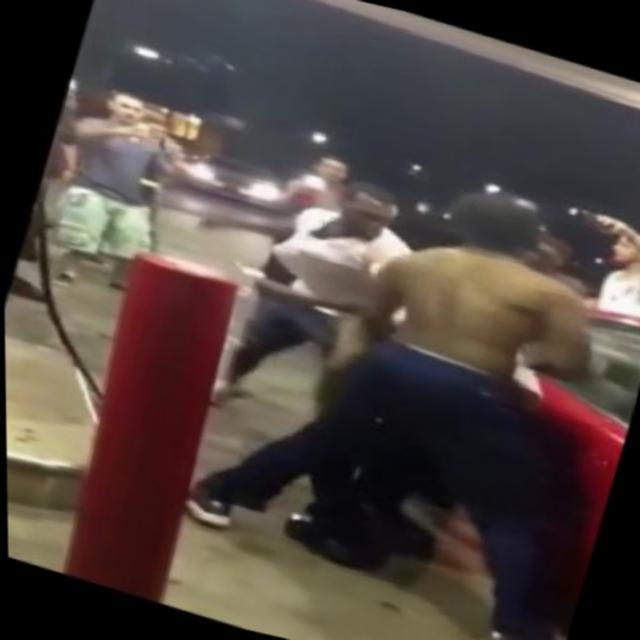fight: (180, 125, 629, 596)
